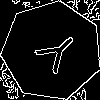Y: (26, 26, 83, 82)
